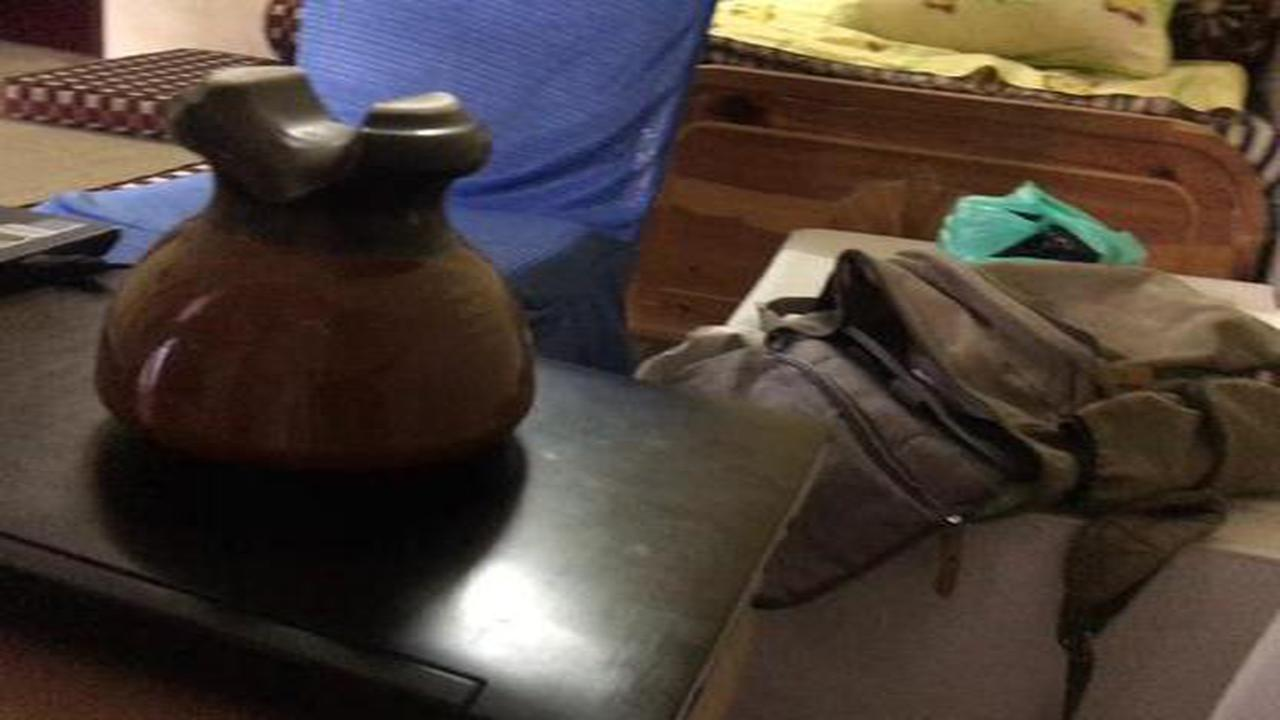insulator_pin: (81, 28, 557, 506)
